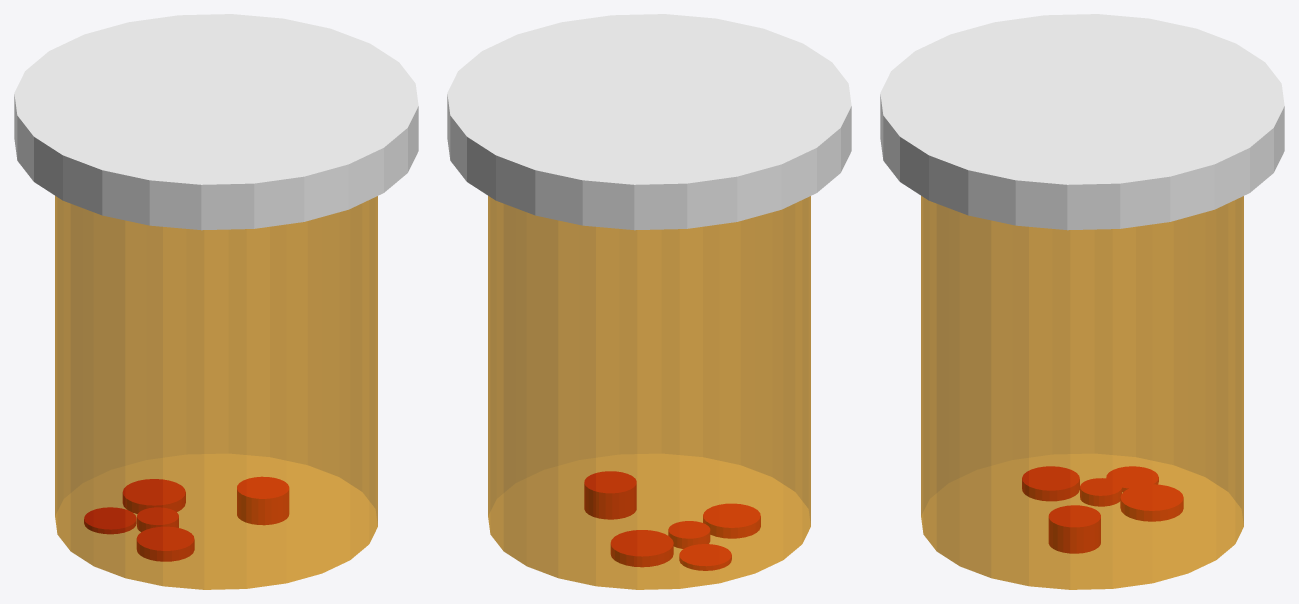
The model's file is pills.fbx.
3 renders of one model, left to right at view 1: azimuth 30°, elevation 25°; view 2: azimuth 150°, elevation 25°; view 3: azimuth 270°, elevation 25°, orthographic.
Visible parts, largest first — view 1: Bottle_Pil; view 2: Bottle_Pil; view 3: Bottle_Pil.
Boxes of the visible parts, bbox=[...] form: Bottle_Pil: bbox=[14, 14, 418, 589]; Bottle_Pil: bbox=[447, 14, 851, 589]; Bottle_Pil: bbox=[880, 14, 1284, 589].
Size of the model in its own units: 2.01 by 2.32 by 2.01.
